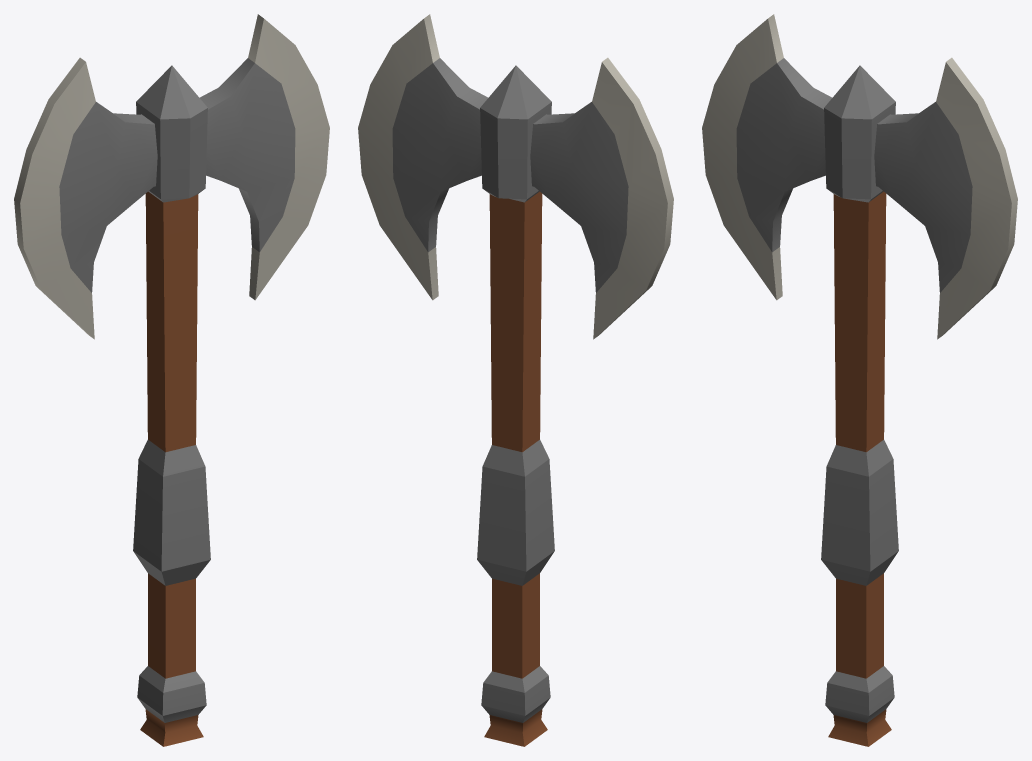
3 views of the same model, side by side, from view 1: azimuth 30°, elevation 25°; view 2: azimuth 150°, elevation 25°; view 3: azimuth 330°, elevation 25° (orthographic).
Visible parts, largest first — view 1: Ax_H; view 2: Ax_H; view 3: Ax_H.
Part boxes in pixels (<box>): Ax_H: <box>14,14,329,746</box>; Ax_H: <box>358,14,673,746</box>; Ax_H: <box>702,14,1017,746</box>.
Bounding box in the file's own units: 71.38 × 153 × 14.76.
